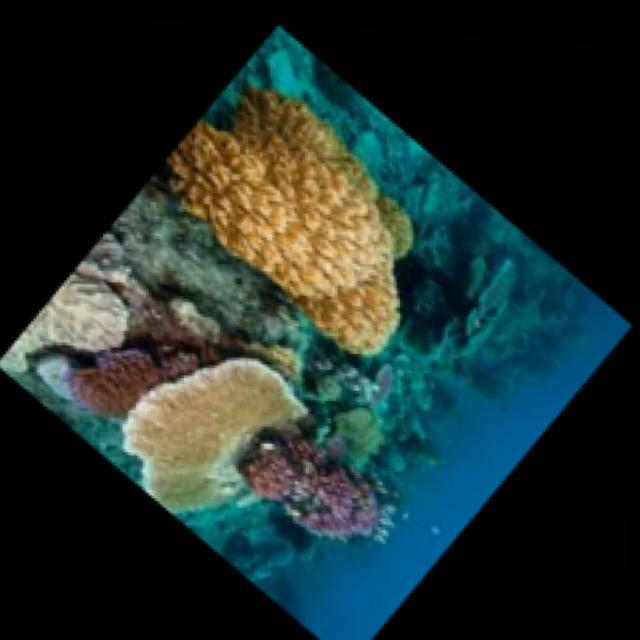Dead Coral: (424, 224, 534, 372)
